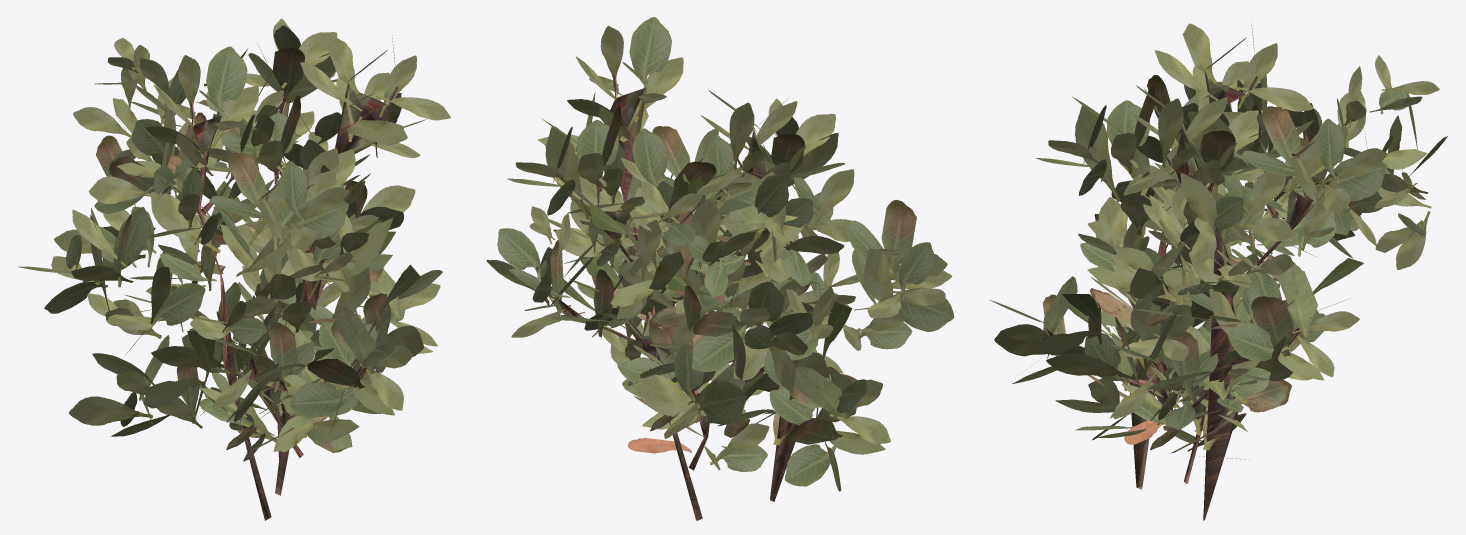
Rendered from ph_shrub_04_hi.glb.
The picture shows the model from 3 angles, left to right: view 1: azimuth 30°, elevation 25°; view 2: azimuth 150°, elevation 25°; view 3: azimuth 270°, elevation 25°; orthographic projection. The views are drawn at different scales.
Visible parts, largest first — view 1: shrub_04_s_0_stems; view 2: shrub_04_s_0_stems; view 3: shrub_04_s_0_stems.
Boxes of the visible parts, bbox=[...] form: shrub_04_s_0_stems: bbox=[18, 18, 450, 520]; shrub_04_s_0_stems: bbox=[486, 17, 954, 520]; shrub_04_s_0_stems: bbox=[990, 23, 1447, 520].
Size of the model in its own units: 0.8853 by 0.8885 by 0.7824.
Materials: 1 (1 with a texture image).
